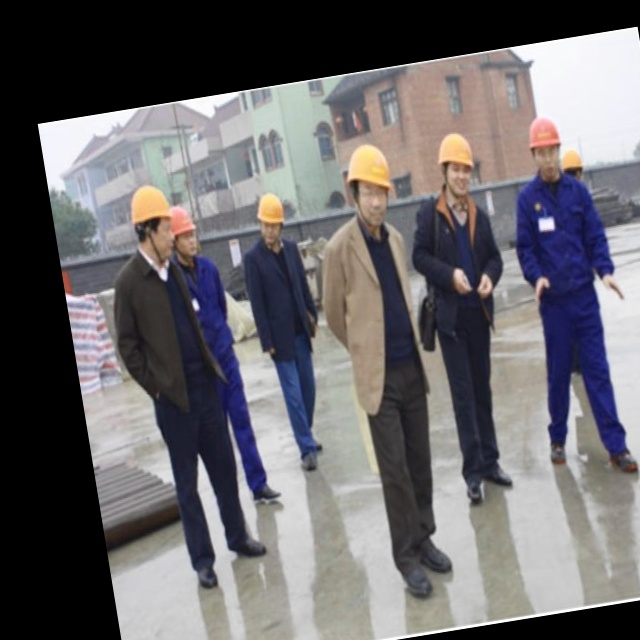Con_Casco: (341, 139, 399, 228), (435, 130, 478, 196)
